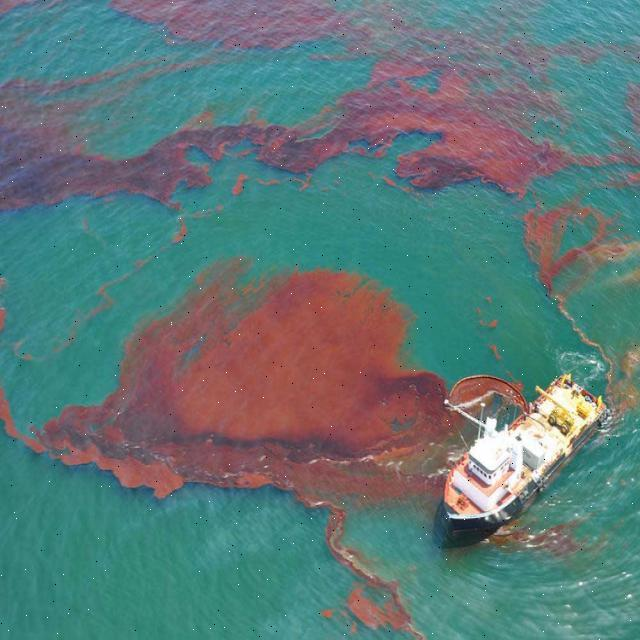truecolor: (36, 259, 451, 509), (0, 59, 542, 209), (110, 0, 553, 69), (326, 509, 425, 640), (524, 196, 611, 295)
